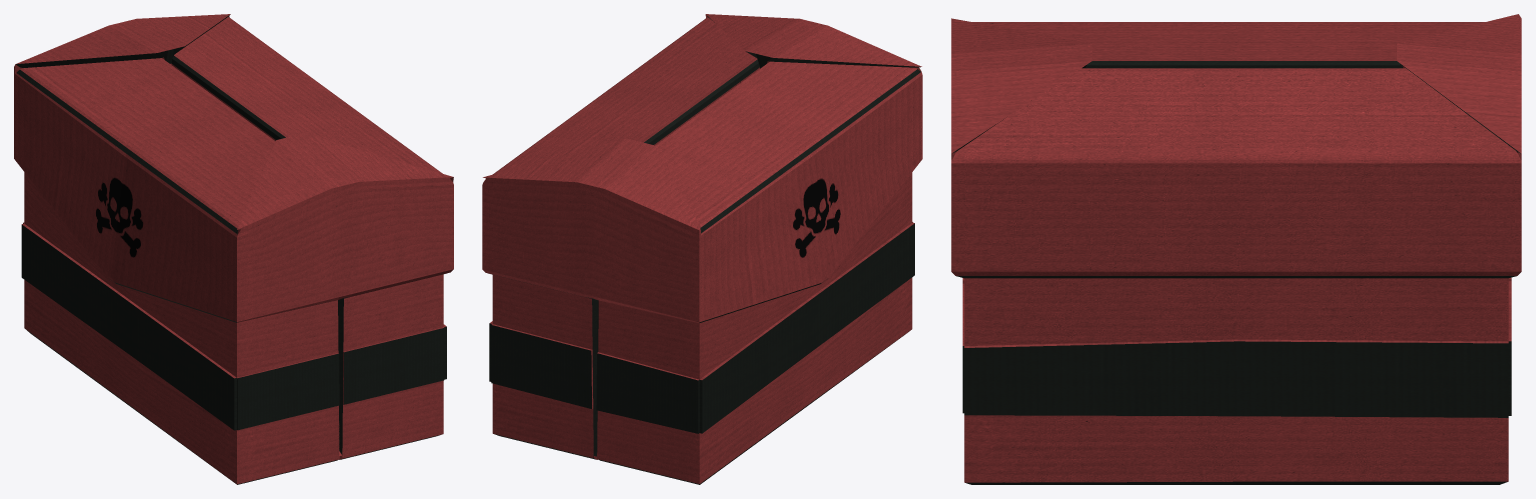
The model's file is CaixaVeneno.fbx.
3 views of the same model, side by side, from view 1: azimuth 30°, elevation 25°; view 2: azimuth 150°, elevation 25°; view 3: azimuth 270°, elevation 25° (orthographic). The views are drawn at different scales.
Parts seen in each view (by area): view 1: Cube; view 2: Cube; view 3: Cube.
Part boxes in pixels (left/top/right/bottom): Cube: left=14, top=14, right=453, bottom=484; Cube: left=482, top=14, right=922, bottom=484; Cube: left=951, top=14, right=1521, bottom=484.
Size of the model in its own units: 536 by 640 by 893.
3 materials, 3 textured.
